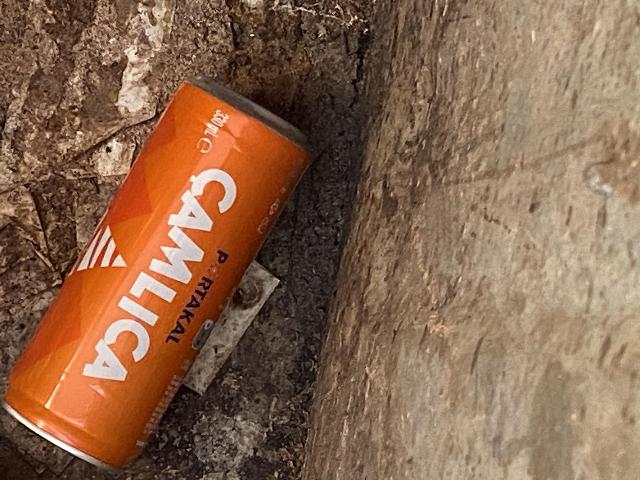Metal: (0, 71, 335, 465)
